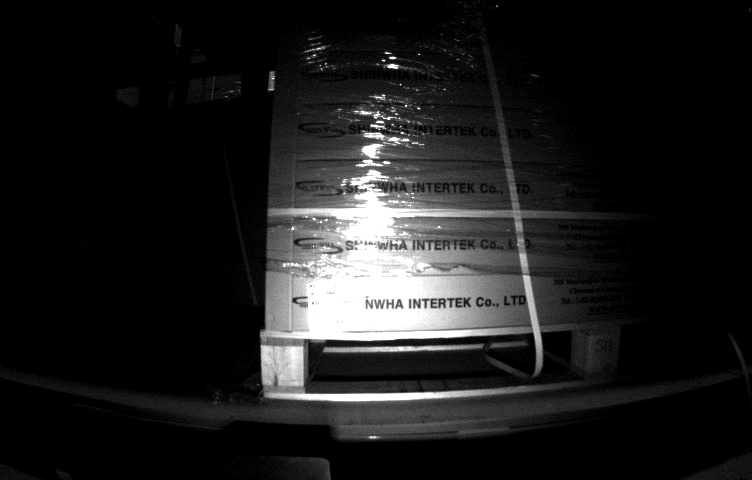True Barcode: (307, 282, 363, 332)
